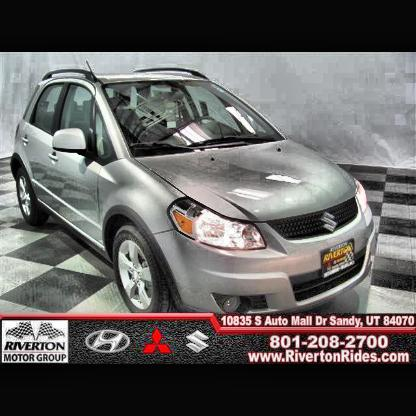Suzuki SX4 Hatchback 2012: (13, 63, 380, 326)
